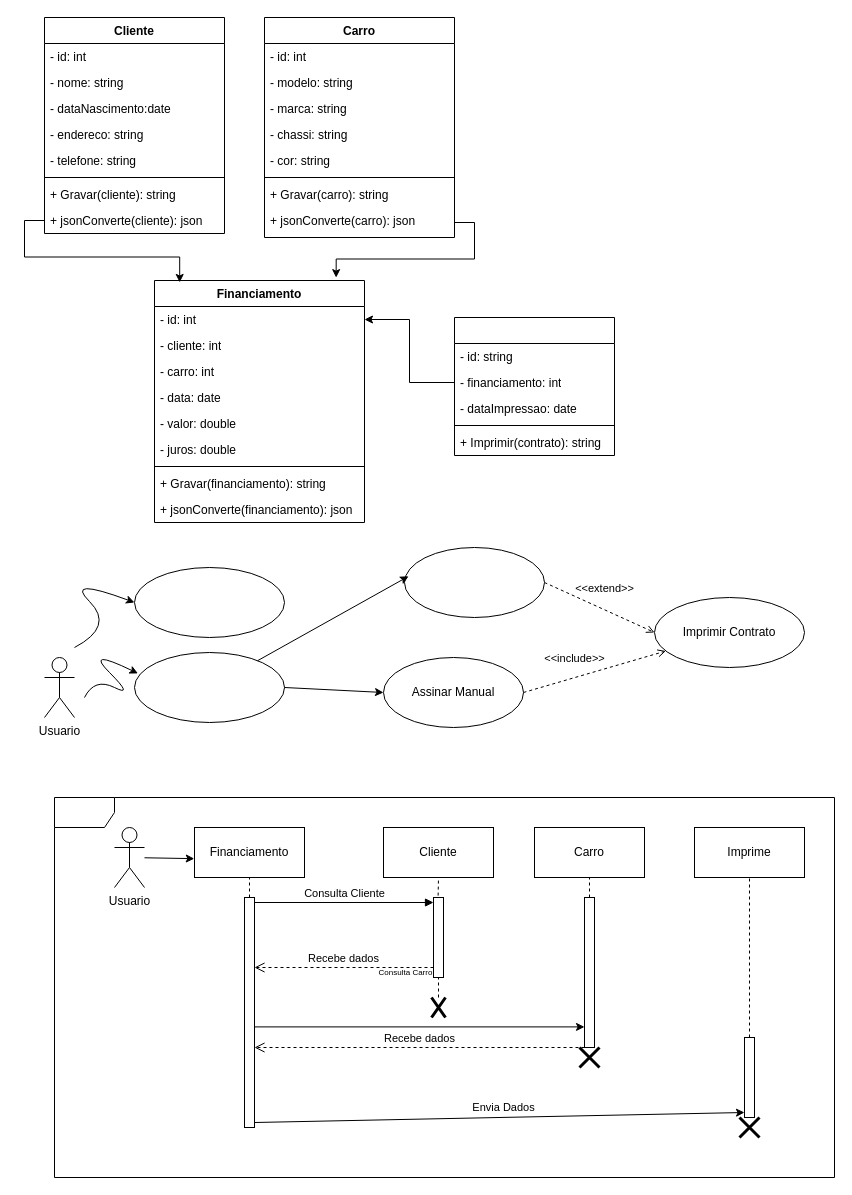
The diagram is 852 pixels wide and 1195 high, and some of its shapes have lost their labels. The shapes that lost their labels are listed below. From the top down, each one's box as (x1, y1, x2, y2) in pixels, then its label:
(454, 316, 614, 456): ImprimeContrato
(134, 566, 284, 638): Cadastrar Cliente
(404, 546, 544, 618): Assinar Digital
(134, 652, 284, 722): Realizar Financiamento
(54, 796, 834, 1178): Atividade
